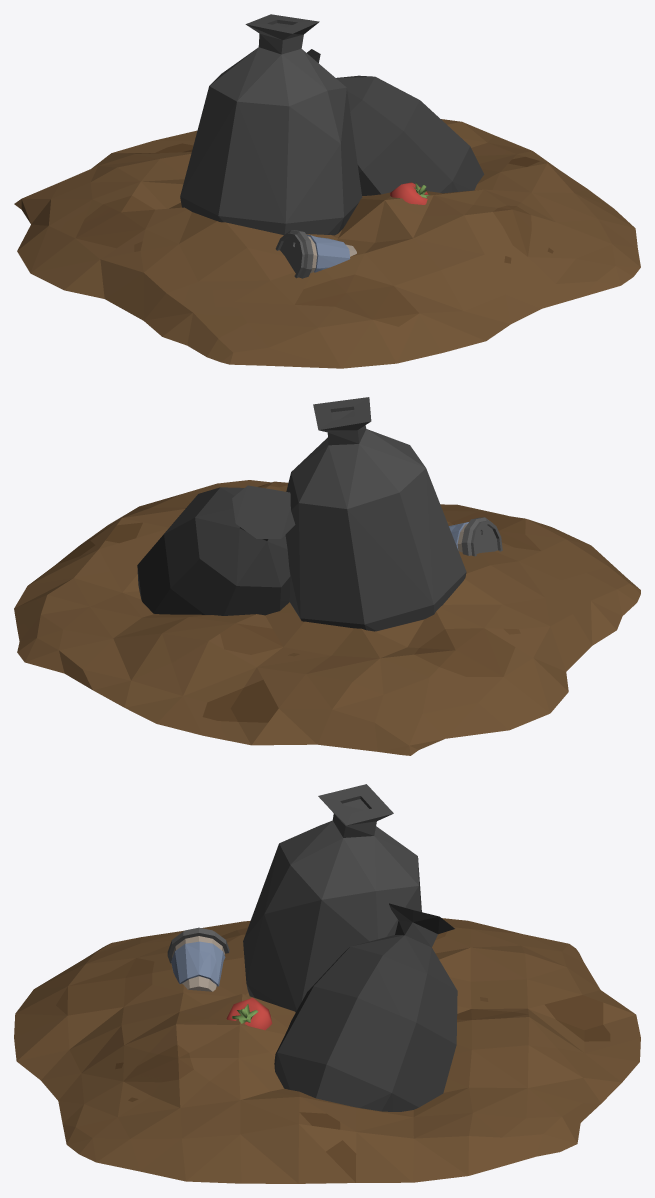
File: Garbage_02.fbx
3 views of the same model, one above another, from view 1: azimuth 30°, elevation 25°; view 2: azimuth 150°, elevation 25°; view 3: azimuth 270°, elevation 25° (orthographic). The views are drawn at different scales.
Visible parts, largest first — view 1: Garbage_02; view 2: Garbage_02; view 3: Garbage_02.
Boxes of the visible parts, left/top/right/bottom form: Garbage_02: left=14, top=14, right=640, bottom=368; Garbage_02: left=14, top=397, right=640, bottom=755; Garbage_02: left=14, top=784, right=640, bottom=1183.
Bounding box in the file's own units: 128 × 70.9 × 127.
